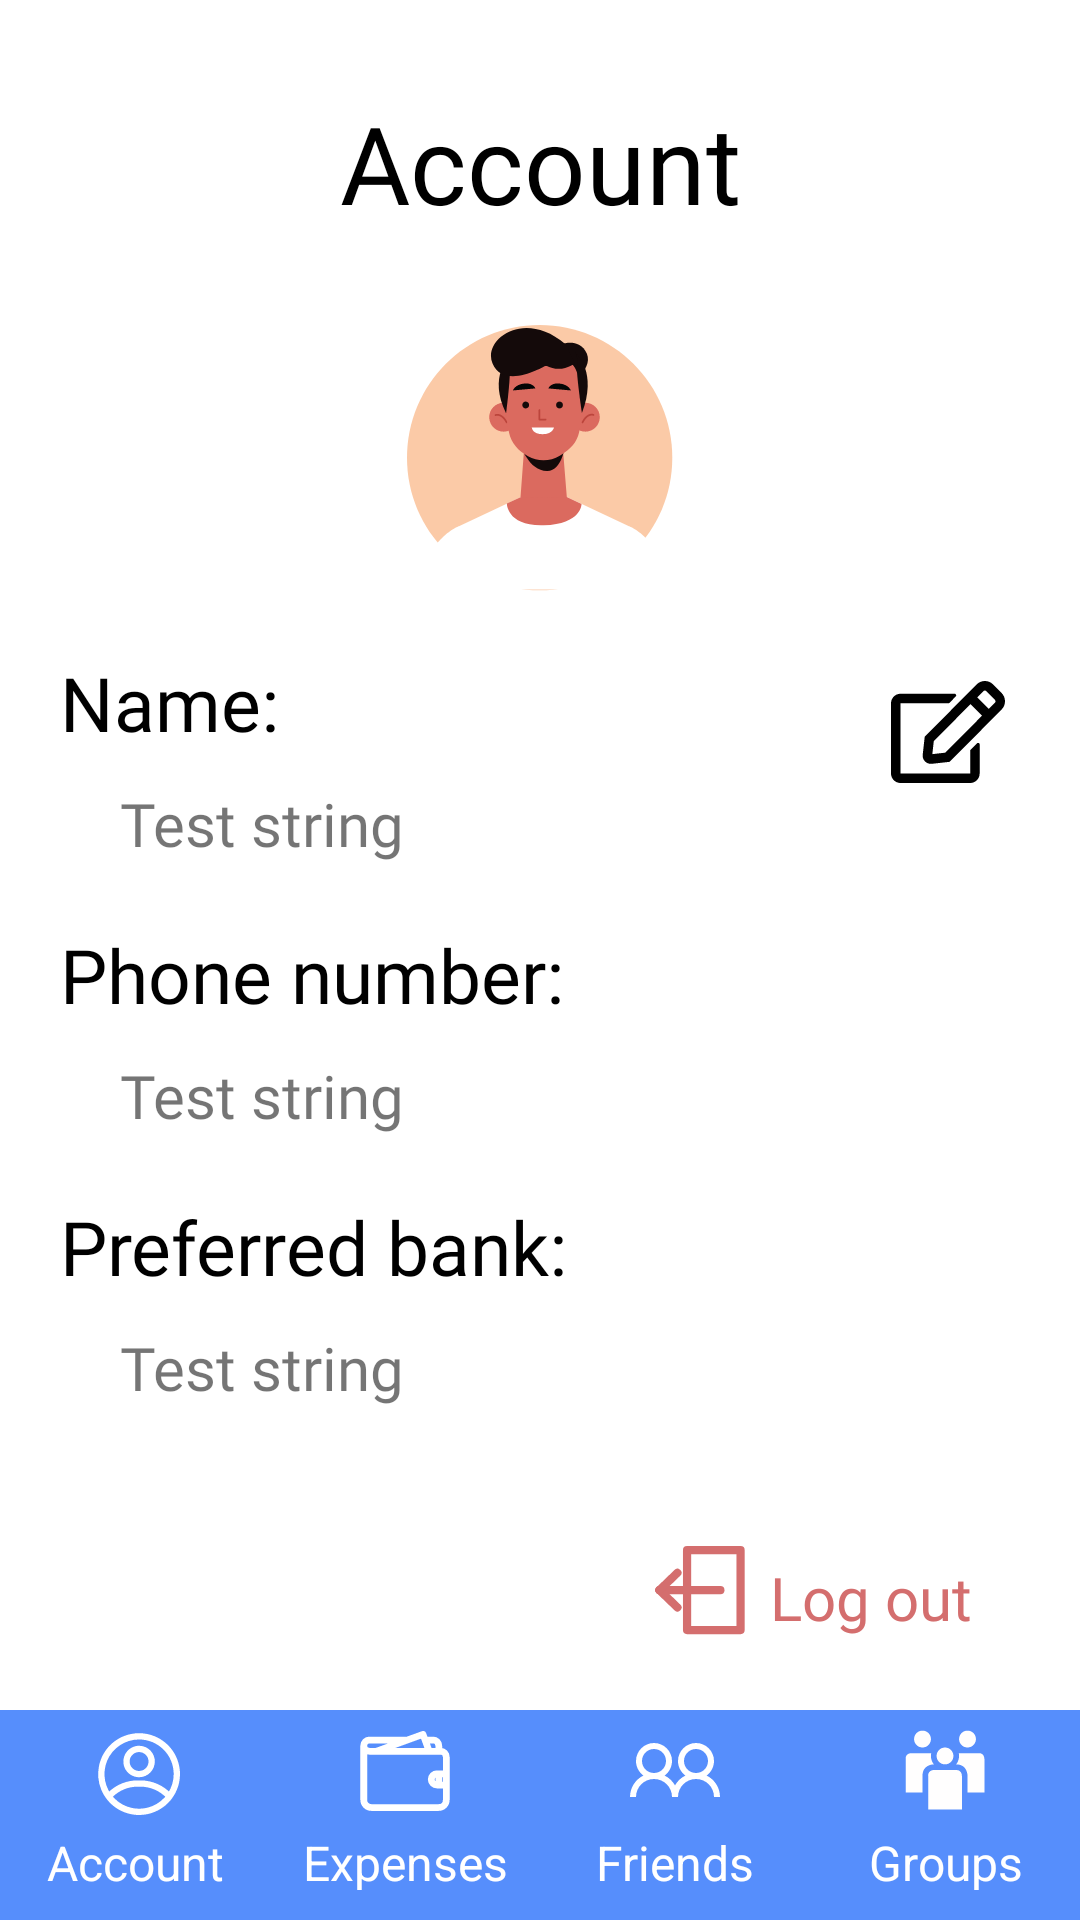

Where icons sit on this 1080 x 1920 app screen, as [x1,y1,x2,y2]:
Edit: [891,681,1005,783]
Profile: [407,325,673,590]
